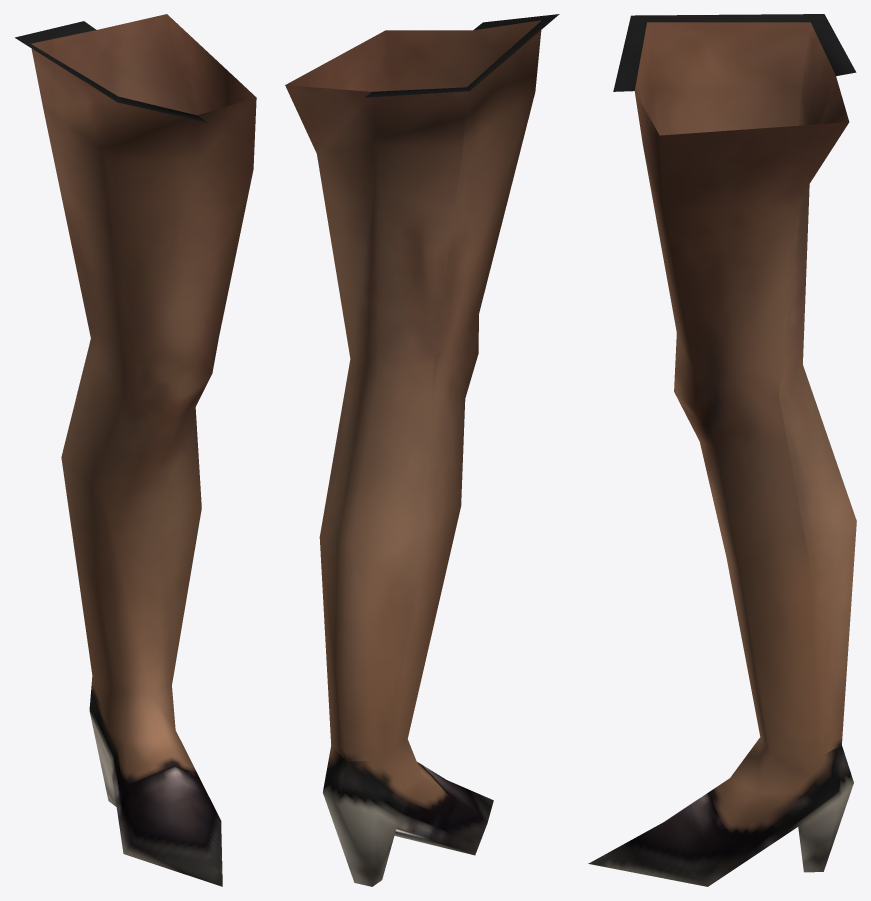
The model's file is woman_right_leg.obj.
The picture shows the model from 3 angles, left to right: view 1: azimuth 30°, elevation 25°; view 2: azimuth 150°, elevation 25°; view 3: azimuth 270°, elevation 25°; orthographic projection. The views are drawn at different scales.
Parts seen in each view (by area): view 1: character_secretary.001; view 2: character_secretary.001; view 3: character_secretary.001.
Part boxes in pixels (x1,y1,x2,y2): character_secretary.001: (15,14,256,886); character_secretary.001: (285,14,559,886); character_secretary.001: (588,14,856,886).
Bounding box in the file's own units: 0.1661 × 0.7606 × 0.2298.
Materials: 1 (1 with a texture image).
